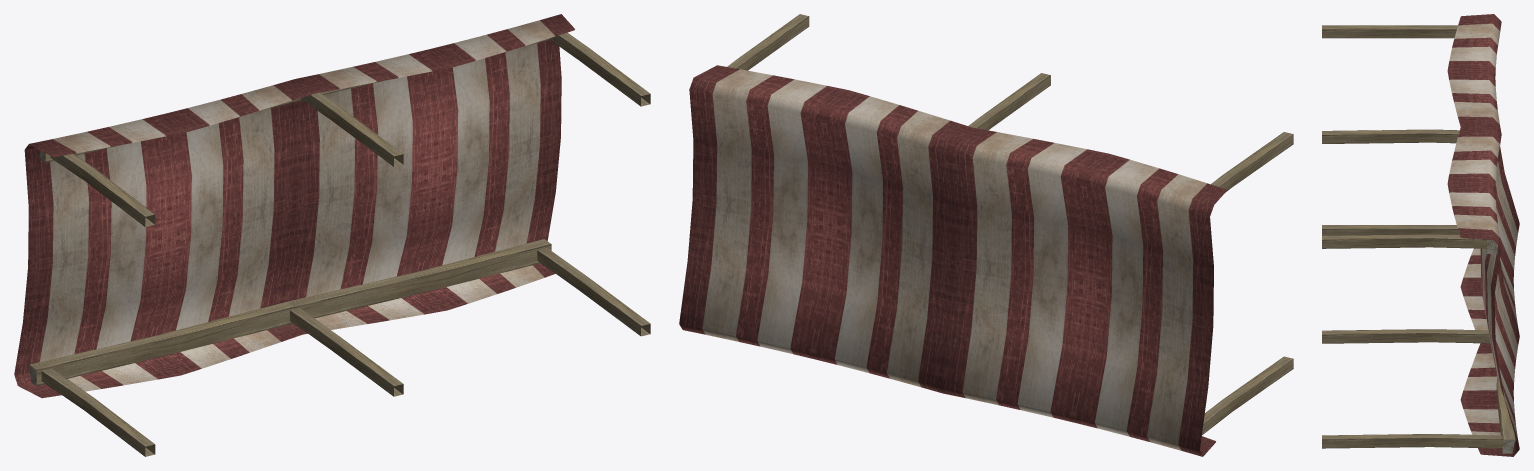
File: Merchant_Tent_Type_03_B.fbx
3 renders of one model, left to right at view 1: azimuth 30°, elevation 25°; view 2: azimuth 150°, elevation 25°; view 3: azimuth 270°, elevation 25°, orthographic. The views are drawn at different scales.
Visible parts, largest first — view 1: Merchant_Tent_Type_03_B; view 2: Merchant_Tent_Type_03_B; view 3: Merchant_Tent_Type_03_B.
Part boxes in pixels (x1,y1,x2,y2): Merchant_Tent_Type_03_B: [14, 14, 650, 456]; Merchant_Tent_Type_03_B: [679, 14, 1293, 456]; Merchant_Tent_Type_03_B: [1322, 14, 1519, 456].
Bounding box in the file's own units: 10.52 × 4.73 × 3.89.
